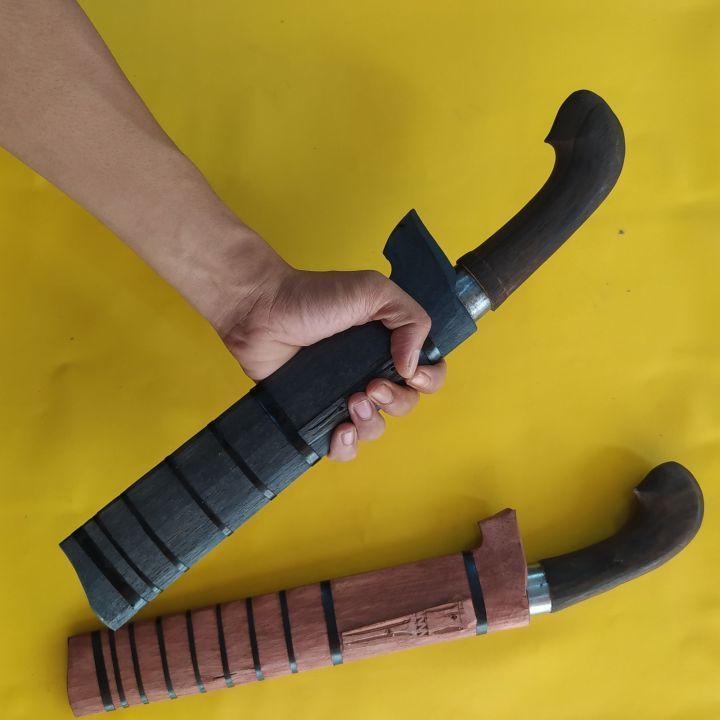facao: (61, 90, 624, 630), (68, 461, 703, 716)
